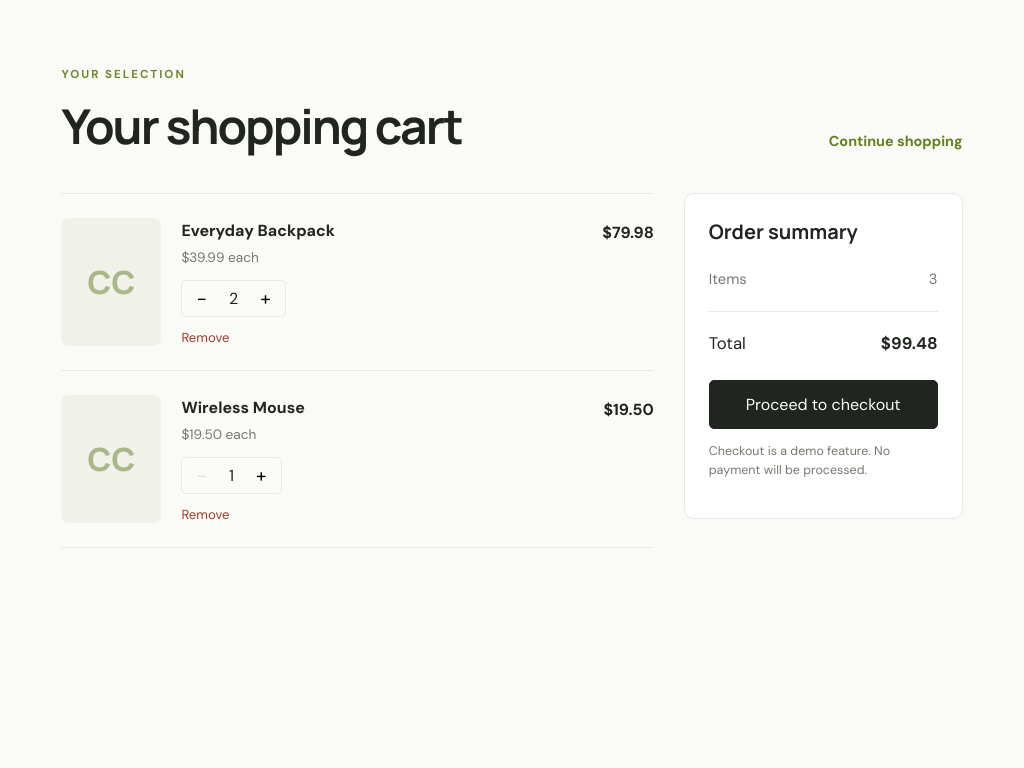
CloudCart Cart page › displays an error when updating a quantity fails
Click the button named "Increase quantity of Everyday Backpack" at (266, 298), box x1=254 y1=285 x2=277 y2=312
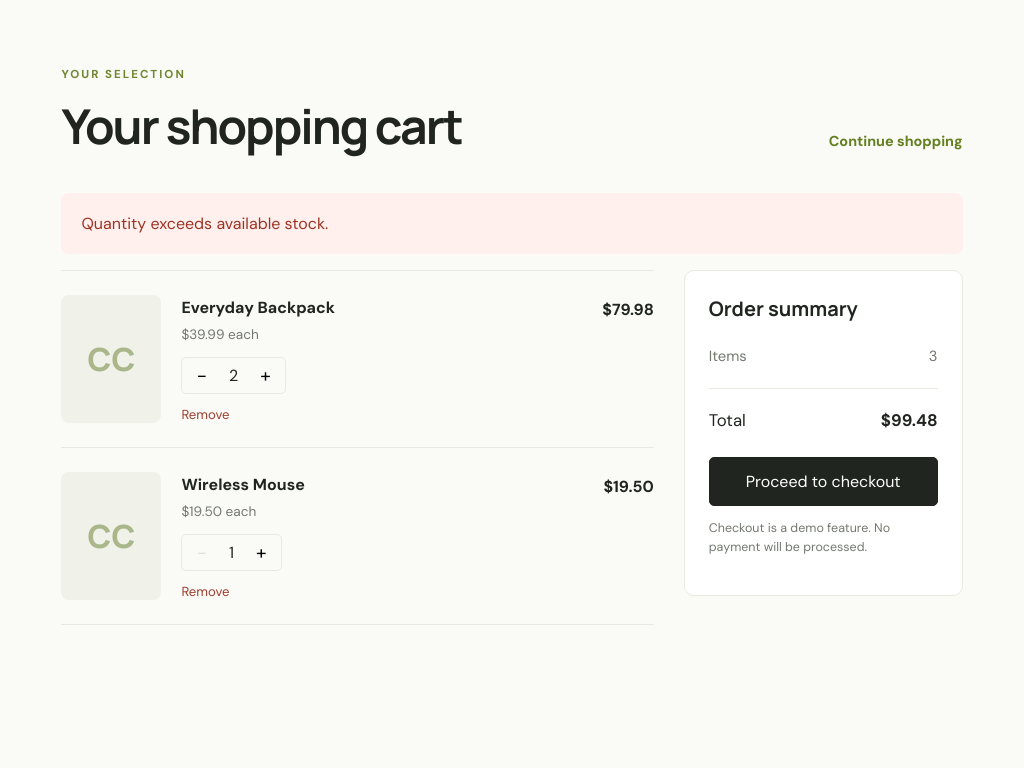
expect the text "Quantity exceeds available stock." is shown: met, box x1=61 y1=193 x2=962 y2=254
